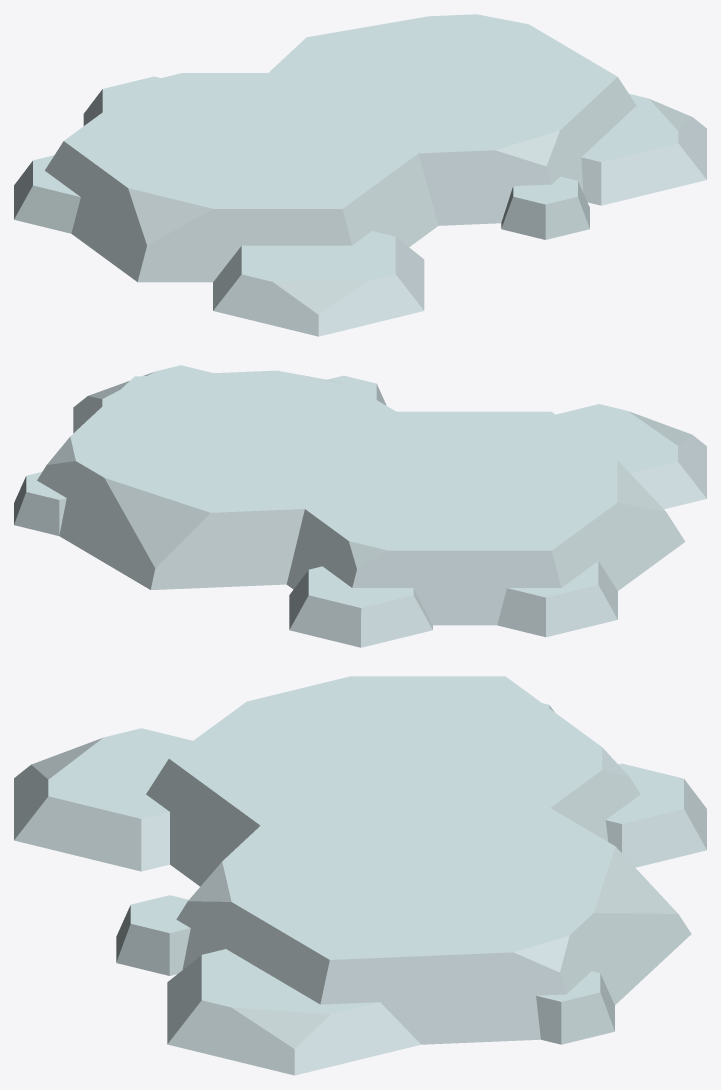
The model's file is HighlandsLandmass.glb.
The picture shows the model from 3 angles, top to bottom: view 1: azimuth 30°, elevation 25°; view 2: azimuth 150°, elevation 25°; view 3: azimuth 270°, elevation 25°; orthographic projection. The views are drawn at different scales.
Visible parts, largest first — view 1: platform_stone; view 2: platform_stone; view 3: platform_stone.
Boxes of the visible parts, x1,y1,x2,y2 form: platform_stone: [14, 14, 706, 336]; platform_stone: [14, 365, 706, 647]; platform_stone: [14, 676, 706, 1075].
Size of the model in its own units: 0.8932 by 0.0825 by 0.724.
